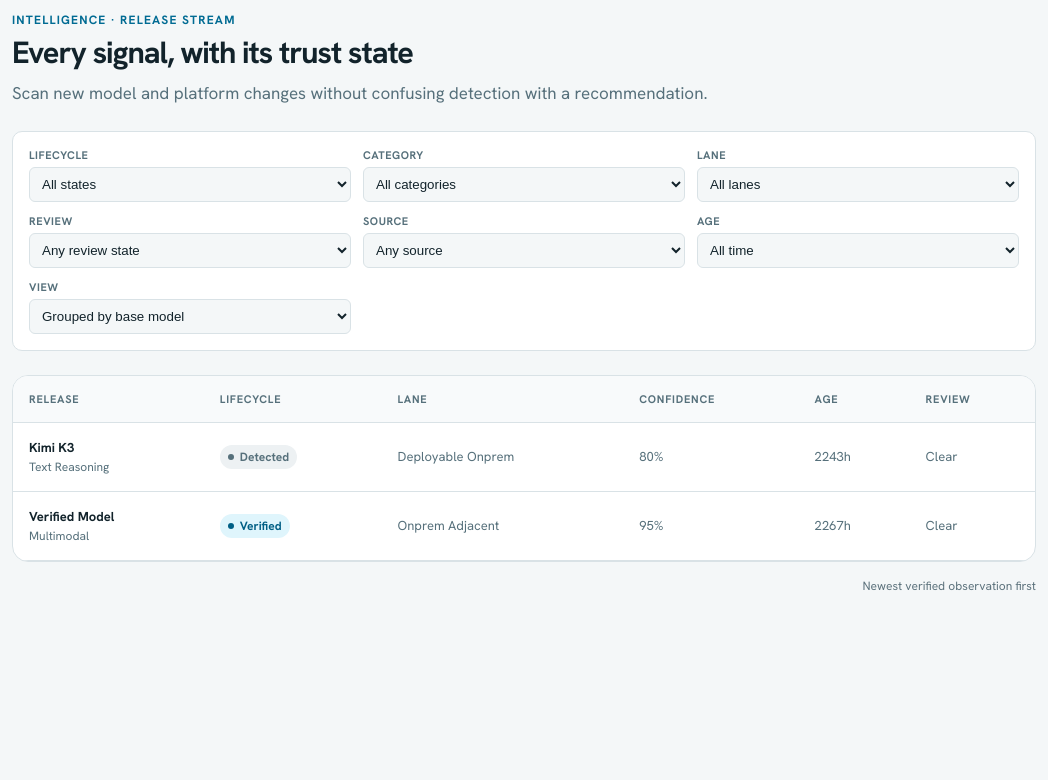
filters the release stream by lifecycle
Expected: the text "Kimi K3" is shown, [29, 439, 74, 456]
Select "Verified" in the dropdown labelled "Lifecycle" at (190, 184), box [29, 167, 351, 202]
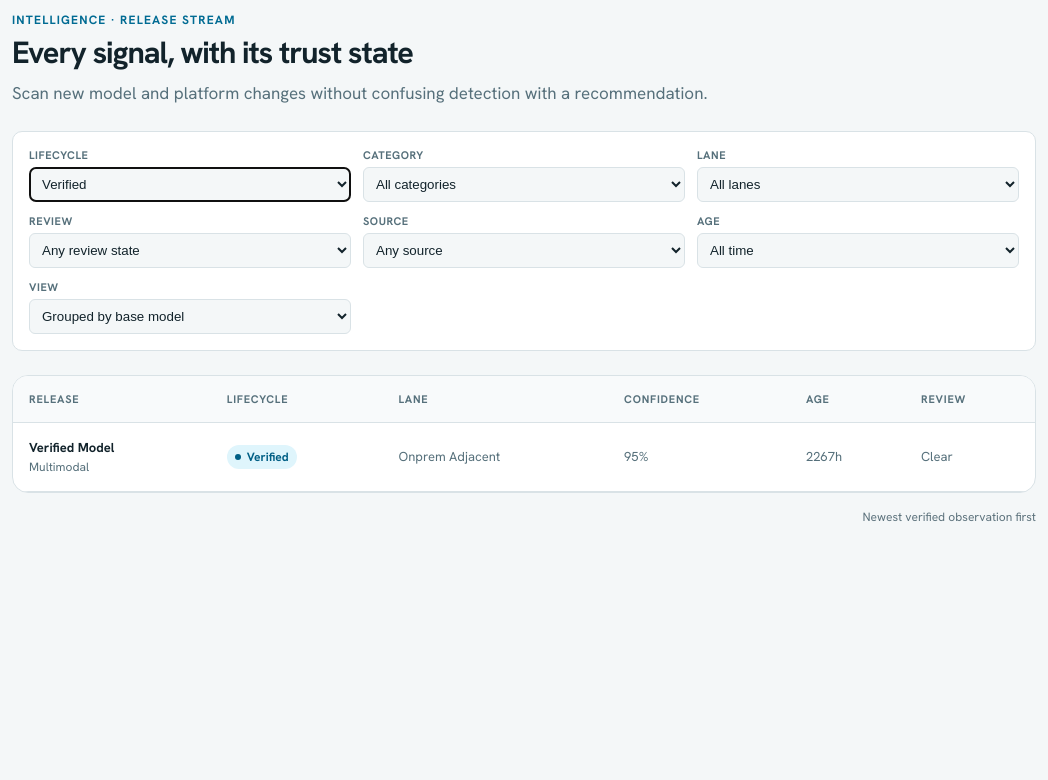
Expected: the text "Verified Model" is shown, [29, 439, 114, 456]
Now the link "Kimi K3" is gone
